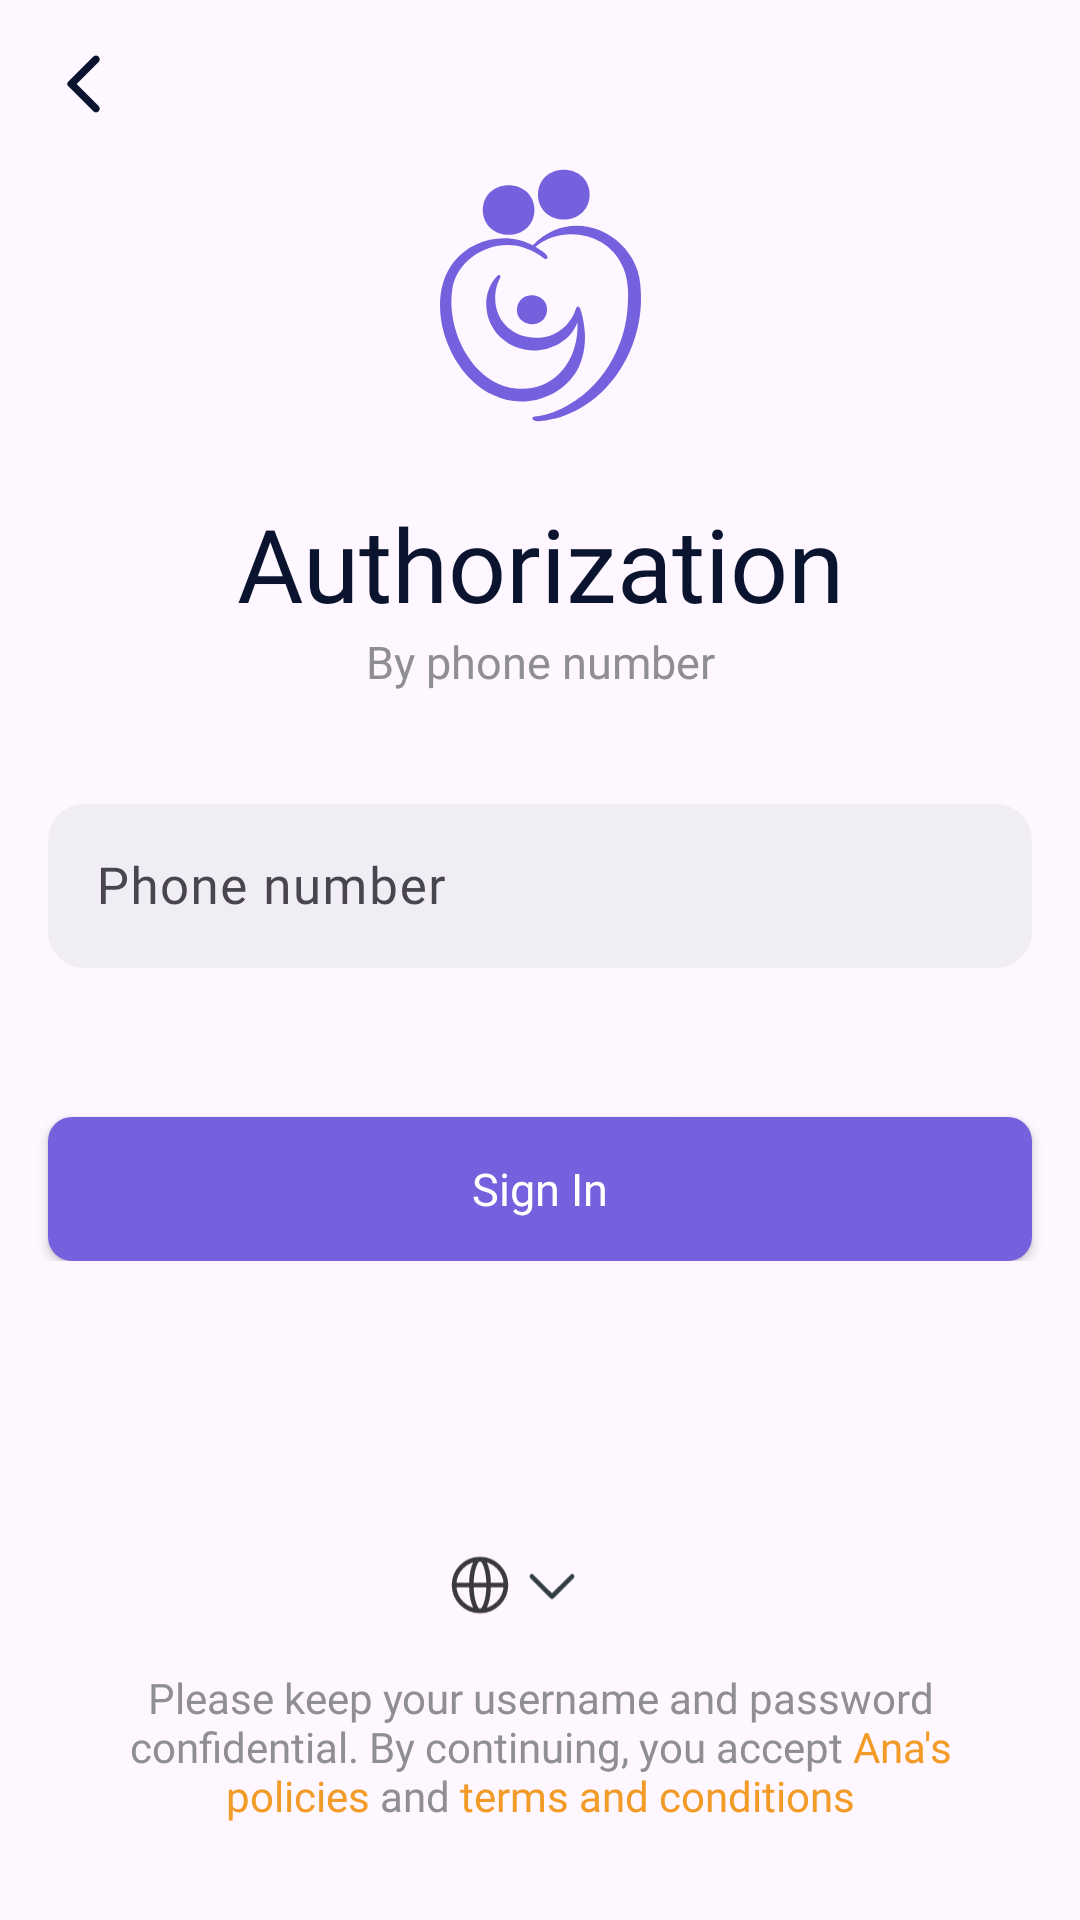

Named icons in this screenshot (1080px x 1920px) and their centers, [x,y]:
back: [83,84]
down: [552,1586]
globe: [480,1585]
